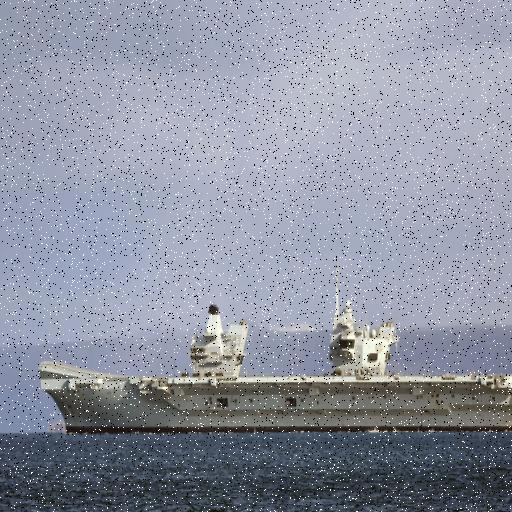Portanaves: (39, 259, 512, 437)
